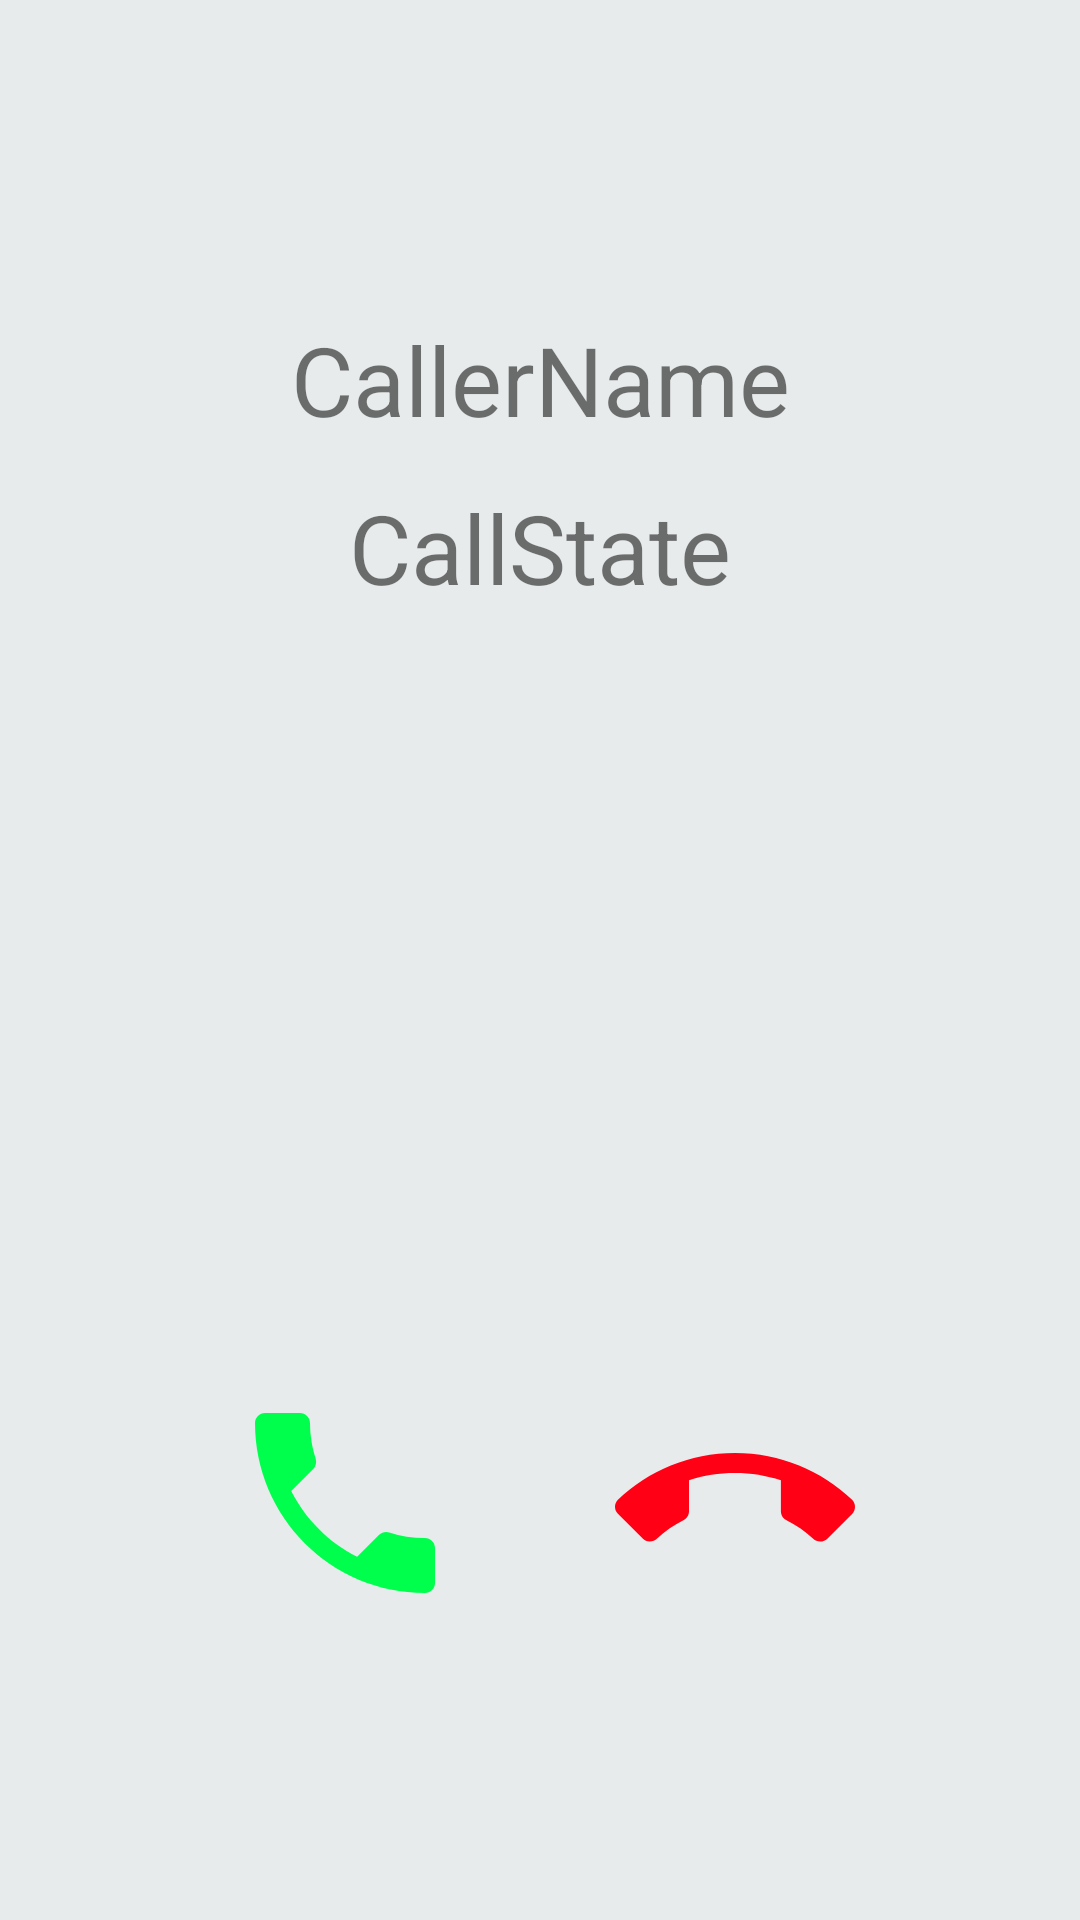

Icons on this 1080*1920 Android screen, each with the point to tap as [x,y]:
accept: [345,1503]
endcall: [735,1497]
